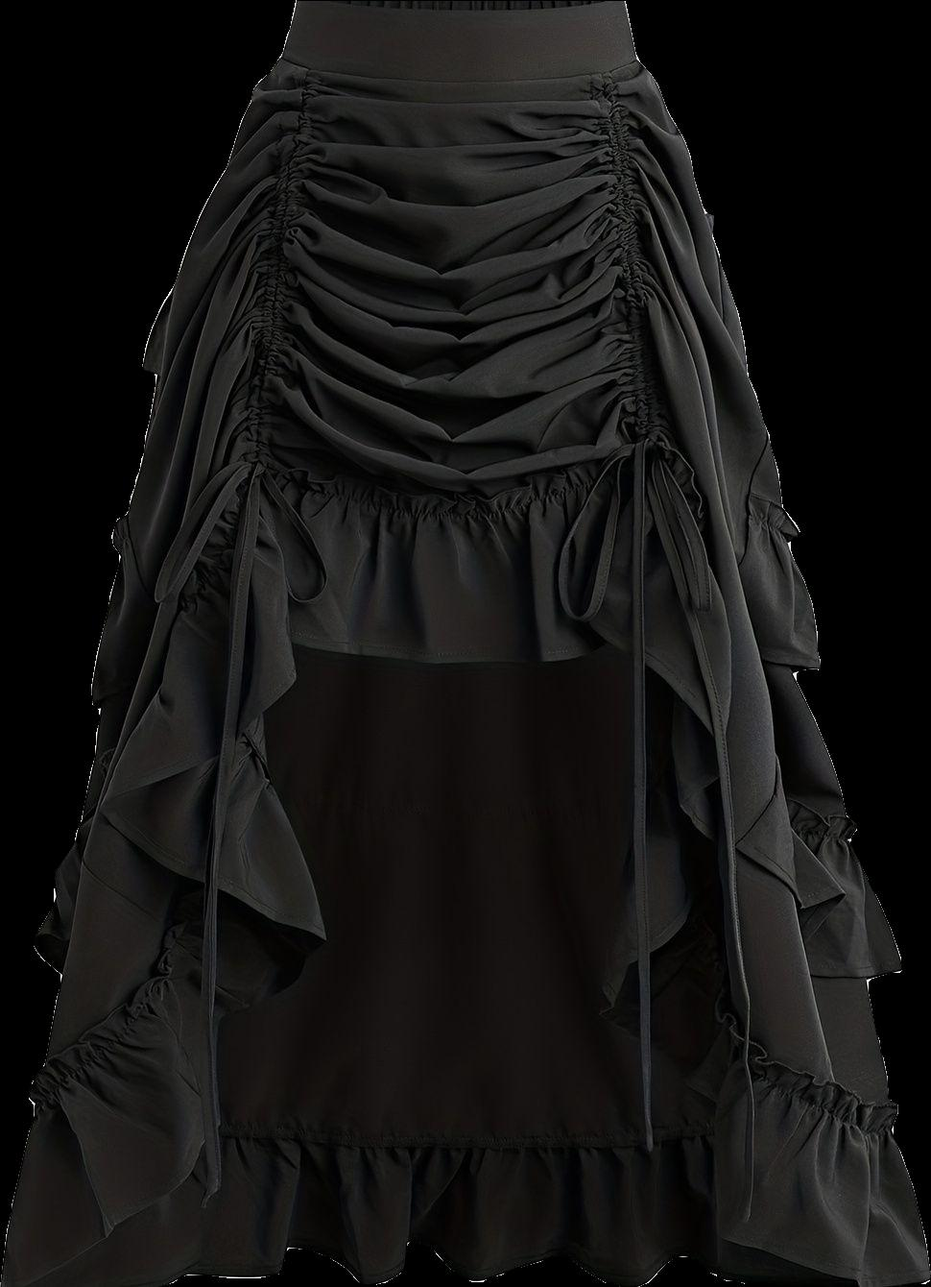Hemline: (0, 623, 930, 1285)
Waistline: (275, 50, 648, 91), (295, 0, 635, 23)
